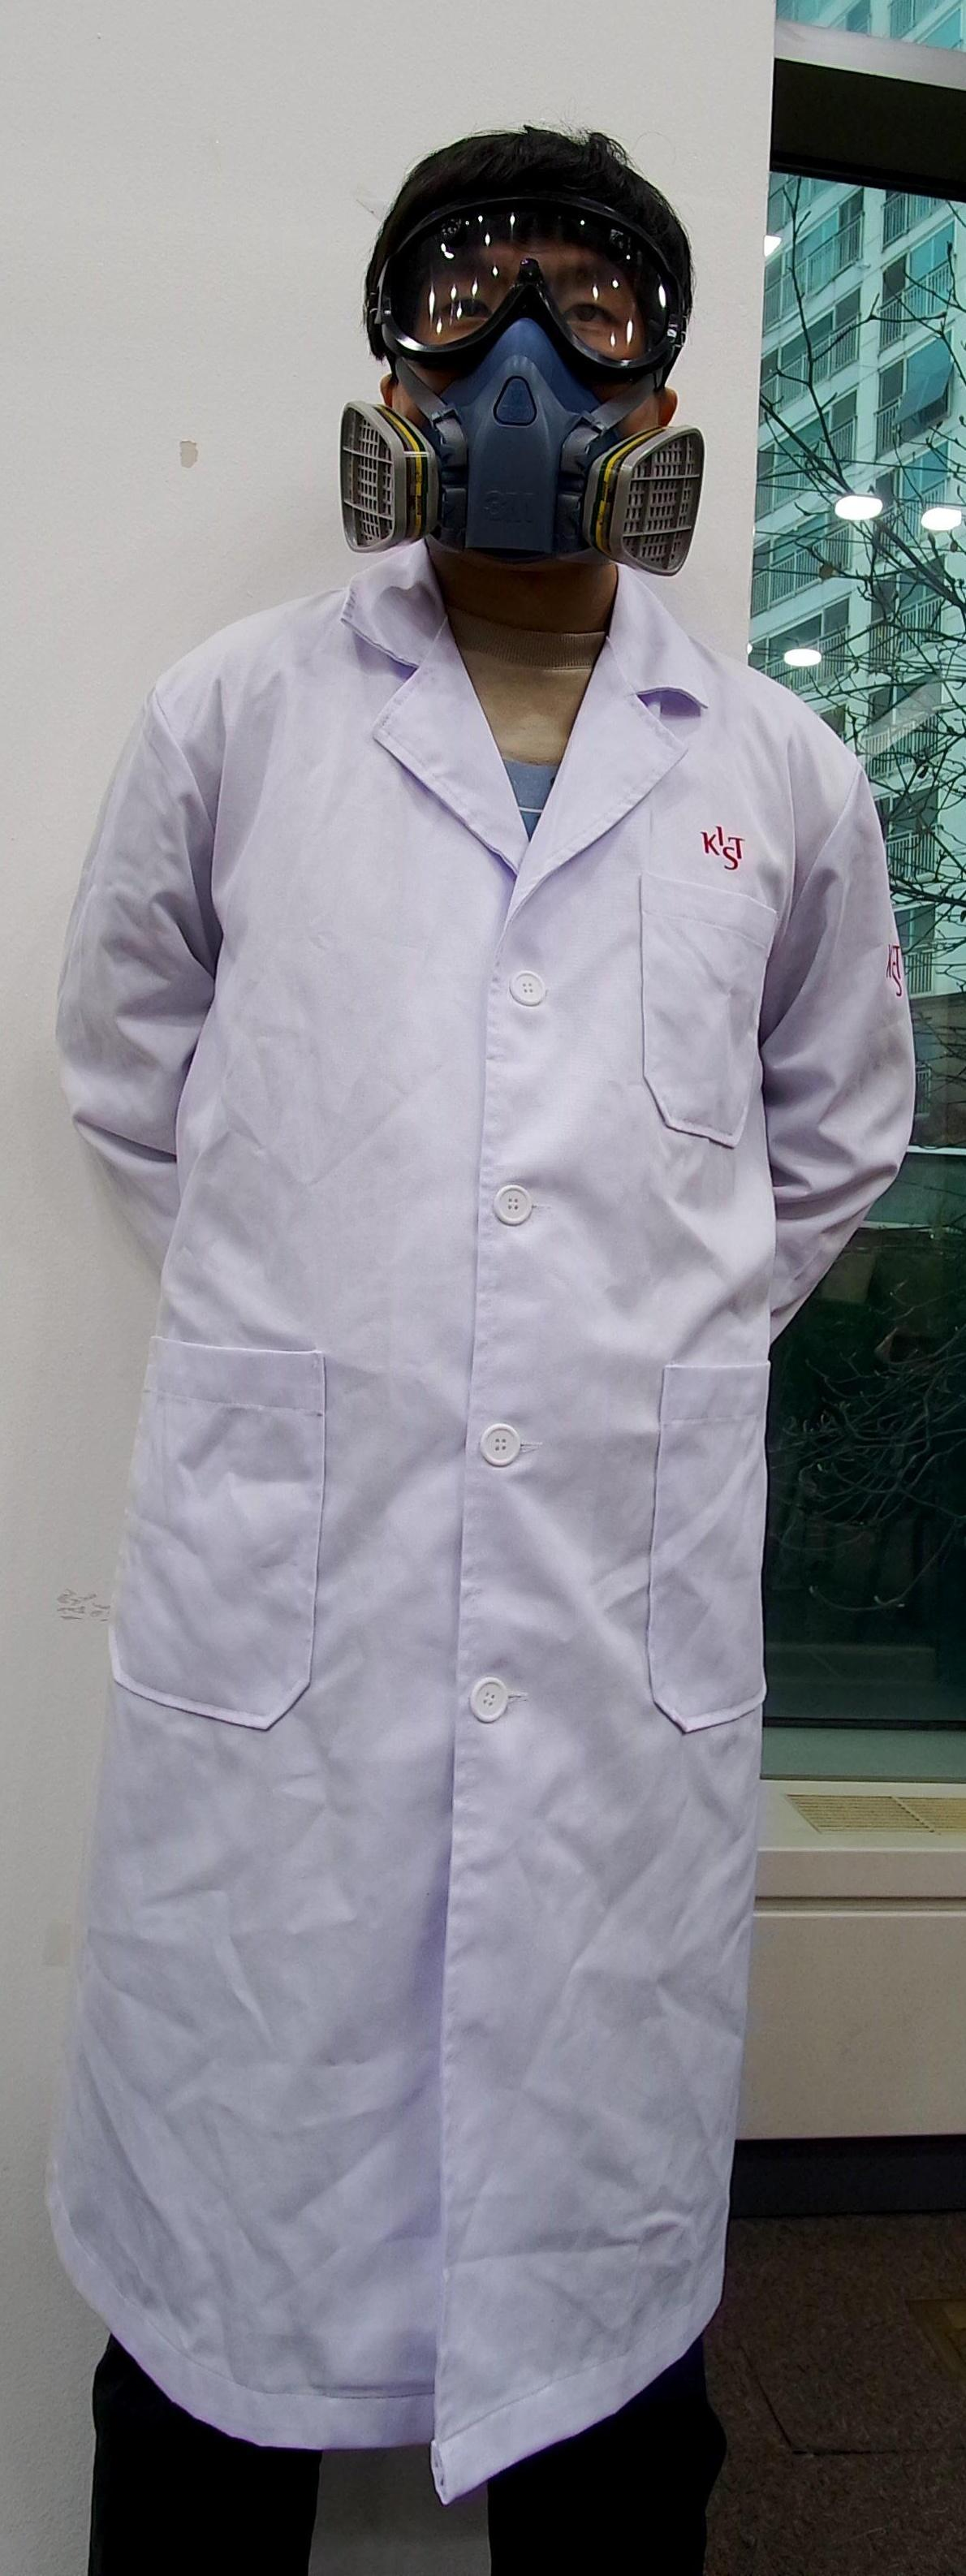lab_coat: (82, 598, 894, 2431)
